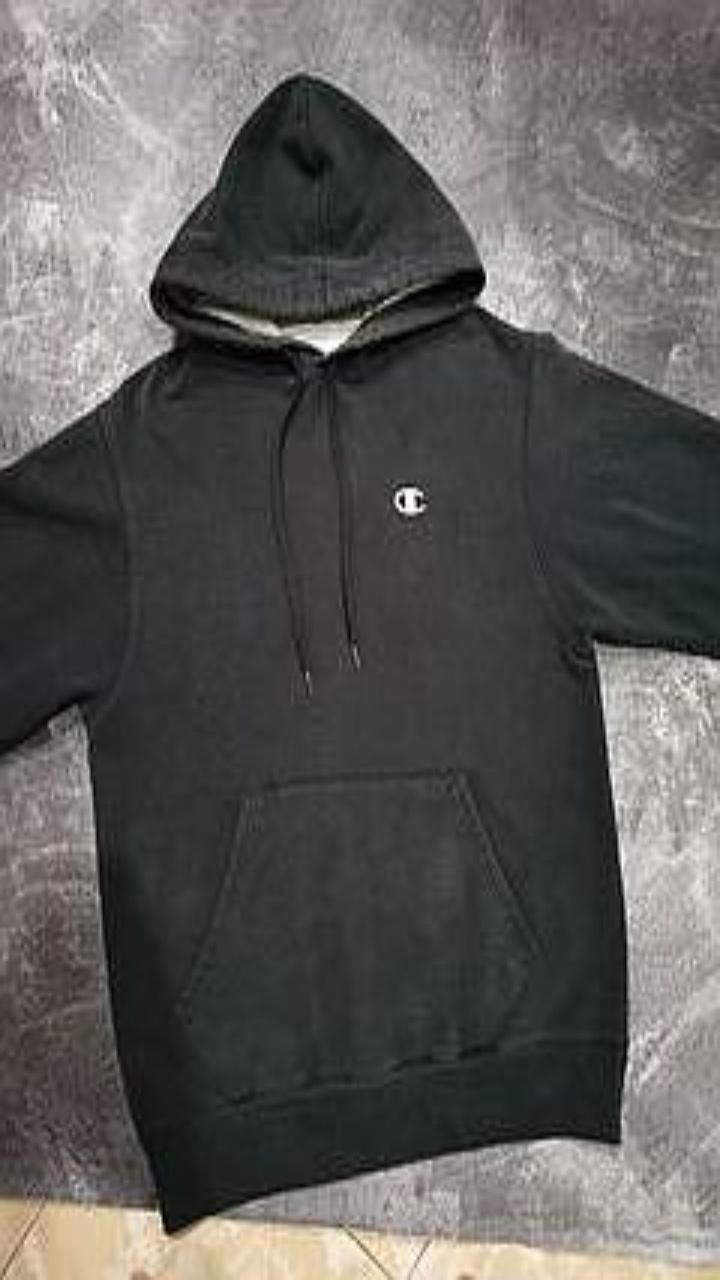Hoodie: (0, 73, 719, 1231)
